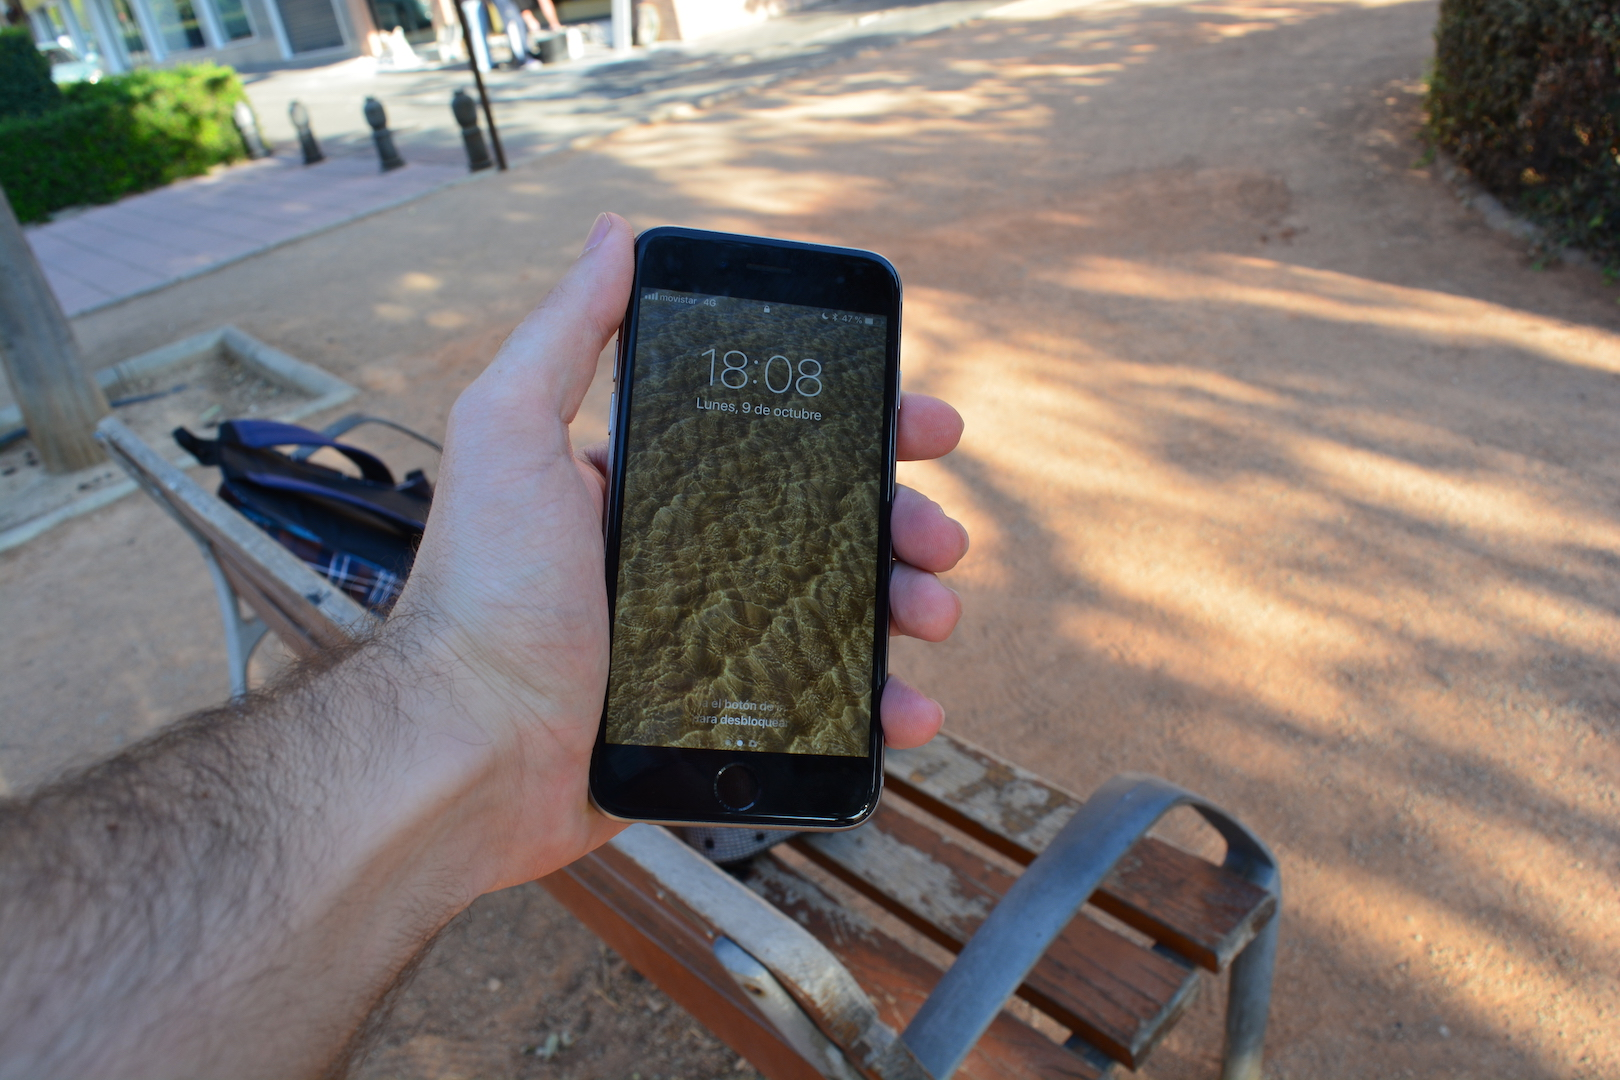smartphone: (585, 223, 906, 832)
